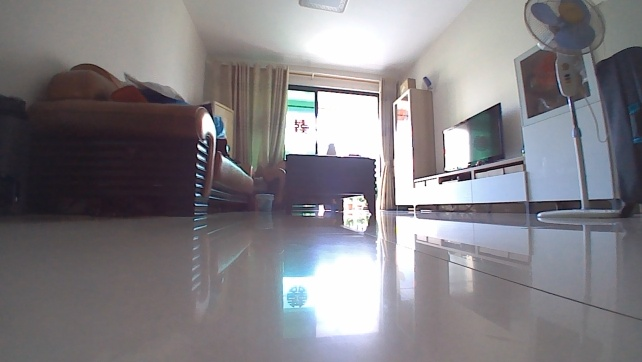TV_stand: (406, 154, 531, 215)
chair_base: (533, 204, 622, 220)
sofa: (28, 58, 260, 220)
tea_table: (281, 148, 383, 219)
wire: (581, 92, 610, 143)
